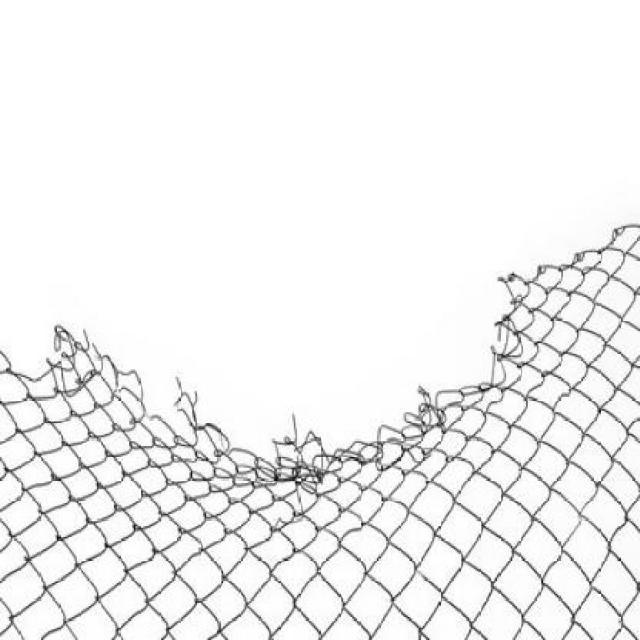fence line: (21, 208, 599, 430)
